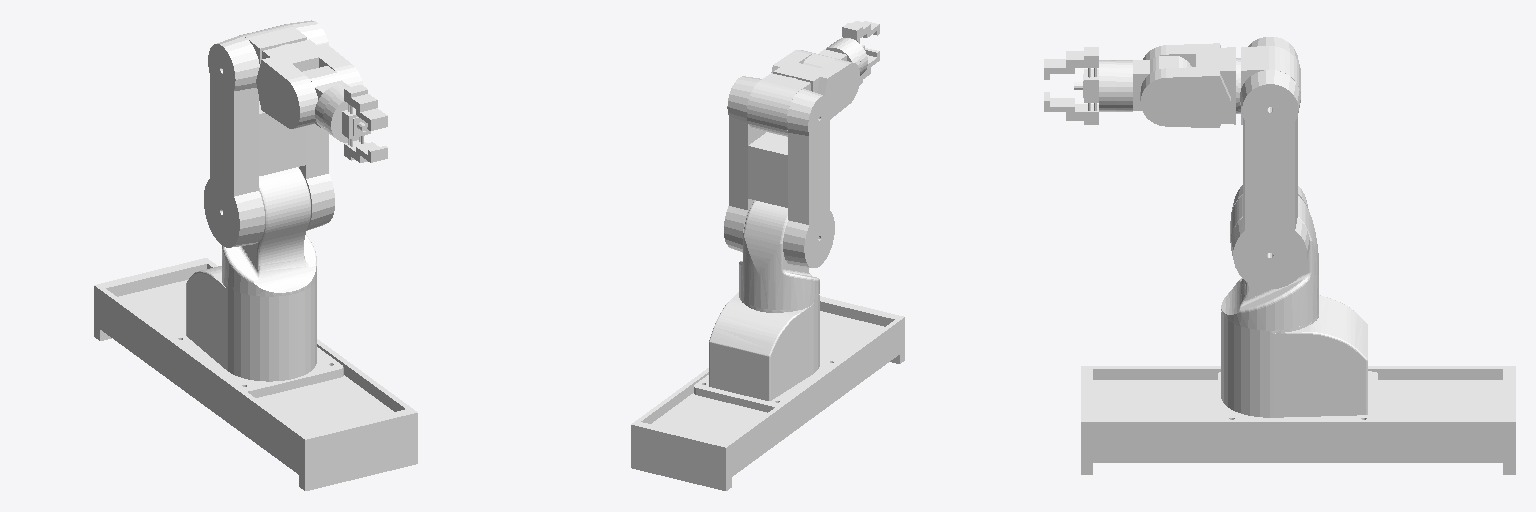
robot.urdf — modi35:
<robot
  name="modi35">
  <link
    name="base_link">
    <inertial>
      <origin
        xyz="-2.77555756156289E-17 8.88583092667428E-18 0.00111795560404514"
        rpy="0 0 0" />
      <mass
        value="7.62592" />
      <inertia
        ixx="0.315223999923242"
        ixy="1.71061952603692E-17"
        ixz="-3.94049230657731E-18"
        iyy="0.0312835352832417"
        iyz="9.5666988355998E-19"
        izz="0.342085026986667" />
    </inertial>
    <visual>
      <origin
        xyz="0 0 0"
        rpy="0 0 0" />
      <geometry>
        <mesh
          filename="package://modi35/meshes/base_link.STL" />
      </geometry>
      <material
        name="">
        <color
          rgba="1 1 1 1" />
      </material>
    </visual>
    <collision>
      <origin
        xyz="0 0 0"
        rpy="0 0 0" />
      <geometry>
        <mesh
          filename="package://modi35/meshes/base_link.STL" />
      </geometry>
    </collision>
  </link>
  <link
    name="Empty_Link1">
    <inertial>
      <origin
        xyz="-0.00496363491477218 3.28732864540715E-07 0.0761174014871144"
        rpy="0 0 0" />
      <mass
        value="5.10234365525503" />
      <inertia
        ixx="0.0209598604077396"
        ixy="-3.52679517201698E-08"
        ixz="0.00172448456269705"
        iyy="0.031247437955896"
        iyz="-9.26841953296622E-08"
        izz="0.0287754574039484" />
    </inertial>
    <visual>
      <origin
        xyz="0 0 0"
        rpy="0 0 0" />
      <geometry>
        <mesh
          filename="package://modi35/meshes/Empty_Link1.STL" />
      </geometry>
      <material
        name="">
        <color
          rgba="1 1 1 1" />
      </material>
    </visual>
    <collision>
      <origin
        xyz="0 0 0"
        rpy="0 0 0" />
      <geometry>
        <mesh
          filename="package://modi35/meshes/Empty_Link1.STL" />
      </geometry>
    </collision>
  </link>
  <joint
    name="J1"
    type="prismatic">
    <origin
      xyz="0 0 0.025"
      rpy="-1.525E-16 0 1.5708" />
    <parent
      link="base_link" />
    <child
      link="Empty_Link1" />
    <axis
      xyz="1 0 0" />
    <limit
      lower="-0.19"
      upper="0.19"
      effort="0"
      velocity="0" />
  </joint>
  <link
    name="Empty_Link2">
    <inertial>
      <origin
        xyz="0.00783103519782546 0.0855410954581869 -1.36498681413411E-07"
        rpy="0 0 0" />
      <mass
        value="2.17039367498809" />
      <inertia
        ixx="0.00858363216798714"
        ixy="0.000390114553366666"
        ixz="-2.77249945705041E-08"
        iyy="0.00458651476904357"
        iyz="-6.41447147299273E-09"
        izz="0.00903530800774155" />
    </inertial>
    <visual>
      <origin
        xyz="0 0 0"
        rpy="0 0 0" />
      <geometry>
        <mesh
          filename="package://modi35/meshes/Empty_Link2.STL" />
      </geometry>
      <material
        name="">
        <color
          rgba="1 1 1 1" />
      </material>
    </visual>
    <collision>
      <origin
        xyz="0 0 0"
        rpy="0 0 0" />
      <geometry>
        <mesh
          filename="package://modi35/meshes/Empty_Link2.STL" />
      </geometry>
    </collision>
  </link>
  <joint
    name="J2"
    type="revolute">
    <origin
      xyz="-0.043 0 0.16457"
      rpy="1.5708 0 0" />
    <parent
      link="Empty_Link1" />
    <child
      link="Empty_Link2" />
    <axis
      xyz="0 1 0" />
    <limit
      lower="-2.62"
      upper="2.62"
      effort="0"
      velocity="0" />
  </joint>
  <link
    name="Empty_Link3">
    <inertial>
      <origin
        xyz="-7.98527910461644E-14 0.112875562467556 5.63188384816726E-13"
        rpy="0 0 0" />
      <mass
        value="3.52624639214267" />
      <inertia
        ixx="0.041233172227815"
        ixy="2.62973607819944E-14"
        ixz="5.51298212729905E-14"
        iyy="0.0149146868305286"
        iyz="-1.74552996710953E-13"
        izz="0.0310672401467654" />
    </inertial>
    <visual>
      <origin
        xyz="0 0 0"
        rpy="0 0 0" />
      <geometry>
        <mesh
          filename="package://modi35/meshes/Empty_Link3.STL" />
      </geometry>
      <material
        name="">
        <color
          rgba="1 1 1 1" />
      </material>
    </visual>
    <collision>
      <origin
        xyz="0 0 0"
        rpy="0 0 0" />
      <geometry>
        <mesh
          filename="package://modi35/meshes/Empty_Link3.STL" />
      </geometry>
    </collision>
  </link>
  <joint
    name="J3"
    type="revolute">
    <origin
      xyz="0 0.134 0"
      rpy="0 0 0" />
    <parent
      link="Empty_Link2" />
    <child
      link="Empty_Link3" />
    <axis
      xyz="0 0 1" />
    <limit
      lower="-1.05"
      upper="2.1"
      effort="0"
      velocity="0" />
  </joint>
  <link
    name="Empty_Link4">
    <inertial>
      <origin
        xyz="-0.00457844780177411 0 0"
        rpy="0 0 0" />
      <mass
        value="0.712367935533829" />
      <inertia
        ixx="0.000914406102872464"
        ixy="-6.7059450084943E-20"
        ixz="-2.50154933809576E-20"
        iyy="0.000925366730263443"
        iyz="3.62246874783102E-20"
        izz="0.000950494697683082" />
    </inertial>
    <visual>
      <origin
        xyz="0 0 0"
        rpy="0 0 0" />
      <geometry>
        <mesh
          filename="package://modi35/meshes/Empty_Link4.STL" />
      </geometry>
      <material
        name="">
        <color
          rgba="1 1 1 1" />
      </material>
    </visual>
    <collision>
      <origin
        xyz="0 0 0"
        rpy="0 0 0" />
      <geometry>
        <mesh
          filename="package://modi35/meshes/Empty_Link4.STL" />
      </geometry>
    </collision>
  </link>
  <joint
    name="J4"
    type="revolute">
    <origin
      xyz="0 0.25 0"
      rpy="0 0 0" />
    <parent
      link="Empty_Link3" />
    <child
      link="Empty_Link4" />
    <axis
      xyz="0 0 1" />
    <limit
      lower="-3.49"
      upper="0.53"
      effort="0"
      velocity="0" />
  </joint>
  <link
    name="Empty_Link5">
    <inertial>
      <origin
        xyz="-0.063999229264772 0 0"
        rpy="0 0 0" />
      <mass
        value="1.09767372193279" />
      <inertia
        ixx="0.00222014648601928"
        ixy="2.25512026969915E-20"
        ixz="4.32587860913395E-19"
        iyy="0.00332112633172226"
        iyz="1.17143142274654E-19"
        izz="0.00242647404297517" />
    </inertial>
    <visual>
      <origin
        xyz="0 0 0"
        rpy="0 0 0" />
      <geometry>
        <mesh
          filename="package://modi35/meshes/Empty_Link5.STL" />
      </geometry>
      <material
        name="">
        <color
          rgba="1 1 1 1" />
      </material>
    </visual>
    <collision>
      <origin
        xyz="0 0 0"
        rpy="0 0 0" />
      <geometry>
        <mesh
          filename="package://modi35/meshes/Empty_Link5.STL" />
      </geometry>
    </collision>
  </link>
  <joint
    name="J5"
    type="revolute">
    <origin
      xyz="-0.05 0 0"
      rpy="-3.1416 1.3935E-15 -5.5511E-17" />
    <parent
      link="Empty_Link4" />
    <child
      link="Empty_Link5" />
    <axis
      xyz="1 0 0" />
    <limit
      lower="0"
      upper="0"
      effort="0"
      velocity="0" />
  </joint>
  <link
    name="Empty_Link6">
    <inertial>
      <origin
        xyz="0 0.0232662375181558 0"
        rpy="0 0 0" />
      <mass
        value="0.465752765030563" />
      <inertia
        ixx="0.000706719690747138"
        ixy="2.74071058853549E-19"
        ixz="-3.97388703044191E-20"
        iyy="0.000319565881479492"
        iyz="-7.03667119110866E-21"
        izz="0.000782123989281275" />
    </inertial>
    <visual>
      <origin
        xyz="0 0 0"
        rpy="0 0 0" />
      <geometry>
        <mesh
          filename="package://modi35/meshes/Empty_Link6.STL" />
      </geometry>
      <material
        name="">
        <color
          rgba="1 1 1 1" />
      </material>
    </visual>
    <collision>
      <origin
        xyz="0 0 0"
        rpy="0 0 0" />
      <geometry>
        <mesh
          filename="package://modi35/meshes/Empty_Link6.STL" />
      </geometry>
    </collision>
  </link>
  <joint
    name="J6"
    type="revolute">
    <origin
      xyz="-0.11 0 0"
      rpy="-1.5049E-16 9.9522E-17 1.5708" />
    <parent
      link="Empty_Link5" />
    <child
      link="Empty_Link6" />
    <axis
      xyz="0 0 1" />
    <limit
      lower="-1.57"
      upper="1.57"
      effort="0"
      velocity="0" />
  </joint>
  <link
    name="Empty_Link7">
    <inertial>
      <origin
        xyz="0 -0.0352256337633361 0"
        rpy="0 0 0" />
      <mass
        value="0.265438046109552" />
      <inertia
        ixx="0.000278997857222206"
        ixy="-1.9627606613517E-20"
        ixz="-2.67321952895935E-20"
        iyy="0.000288094676856989"
        iyz="8.25457009516883E-20"
        izz="0.00043624825096176" />
    </inertial>
    <visual>
      <origin
        xyz="0 0 0"
        rpy="0 0 0" />
      <geometry>
        <mesh
          filename="package://modi35/meshes/Empty_Link7.STL" />
      </geometry>
      <material
        name="">
        <color
          rgba="1 1 1 1" />
      </material>
    </visual>
    <collision>
      <origin
        xyz="0 0 0"
        rpy="0 0 0" />
      <geometry>
        <mesh
          filename="package://modi35/meshes/Empty_Link7.STL" />
      </geometry>
    </collision>
  </link>
  <joint
    name="J7"
    type="revolute">
    <origin
      xyz="0 0.08 0"
      rpy="1.9722E-31 -7.4508E-16 3.1416" />
    <parent
      link="Empty_Link6" />
    <child
      link="Empty_Link7" />
    <axis
      xyz="0 1 0" />
    <limit
      lower="-3.14"
      upper="3.14"
      effort="0"
      velocity="0" />
  </joint>
</robot>

--- Render facts (derived) ---
The picture shows the robot from 3 angles, left to right: view 1: azimuth 30°, elevation 25°; view 2: azimuth 150°, elevation 25°; view 3: azimuth 270°, elevation 25°; orthographic projection.
Model modi35 with 8 links and 7 joints (6 revolute, 1 prismatic), rooted at base_link, posed every joint at zero.
Links seen in each view (by area): view 1: base_link, Empty_Link3, Empty_Link1, Empty_Link2, Empty_Link5, Empty_Link7, Empty_Link6, Empty_Link4; view 2: base_link, Empty_Link3, Empty_Link1, Empty_Link2, Empty_Link5, Empty_Link4, Empty_Link7, Empty_Link6; view 3: base_link, Empty_Link1, Empty_Link3, Empty_Link5, Empty_Link2, Empty_Link7, Empty_Link6, Empty_Link4.
Link boxes in pixels (x1,y1,x2,y2): base_link: (94,258,417,490); Empty_Link3: (204,20,334,247); Empty_Link1: (170,266,343,397); Empty_Link2: (222,167,316,296); Empty_Link5: (256,39,363,128); Empty_Link7: (323,85,387,162); Empty_Link6: (303,66,349,132); Empty_Link4: (239,24,306,100); base_link: (631,296,904,490); Empty_Link3: (724,76,834,267); Empty_Link1: (694,292,840,412); Empty_Link2: (739,200,819,309); Empty_Link5: (771,50,859,119); Empty_Link4: (747,73,810,136); Empty_Link7: (831,21,879,85); Empty_Link6: (803,43,860,71); base_link: (1081,366,1515,474); Empty_Link1: (1218,295,1377,419); Empty_Link3: (1231,37,1309,288); Empty_Link5: (1140,43,1237,127); Empty_Link2: (1221,195,1318,330); Empty_Link7: (1044,47,1115,124); Empty_Link6: (1116,56,1191,111); Empty_Link4: (1238,46,1300,124).
Size in the robot's own frame: 0.208 by 0.732 by 0.6786 metres.
8 mesh visuals loaded from 8 distinct referenced files (8 binary STL).
